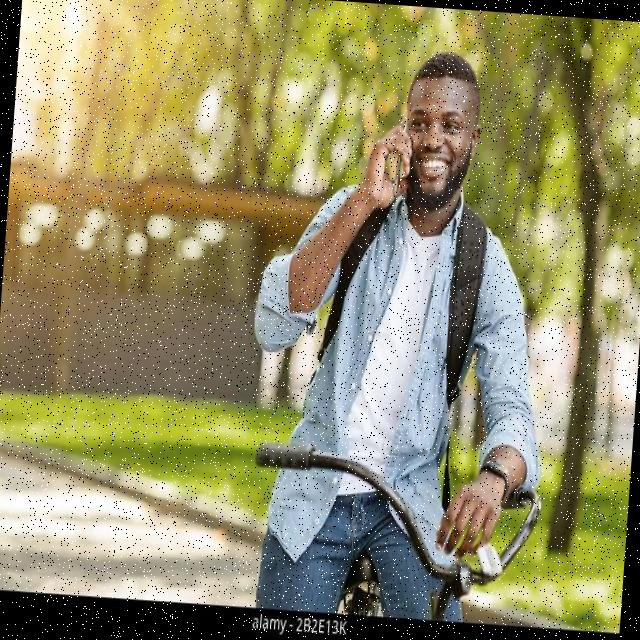Using mobile: (336, 45, 522, 242)
